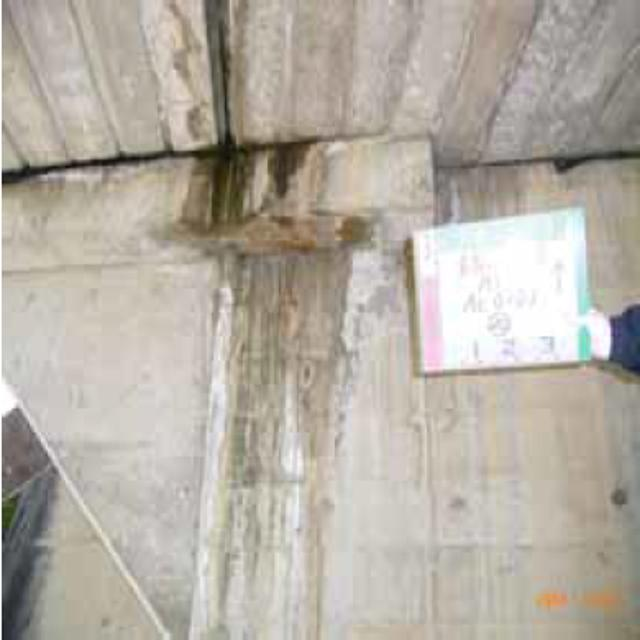leakage: (174, 122, 319, 237)
